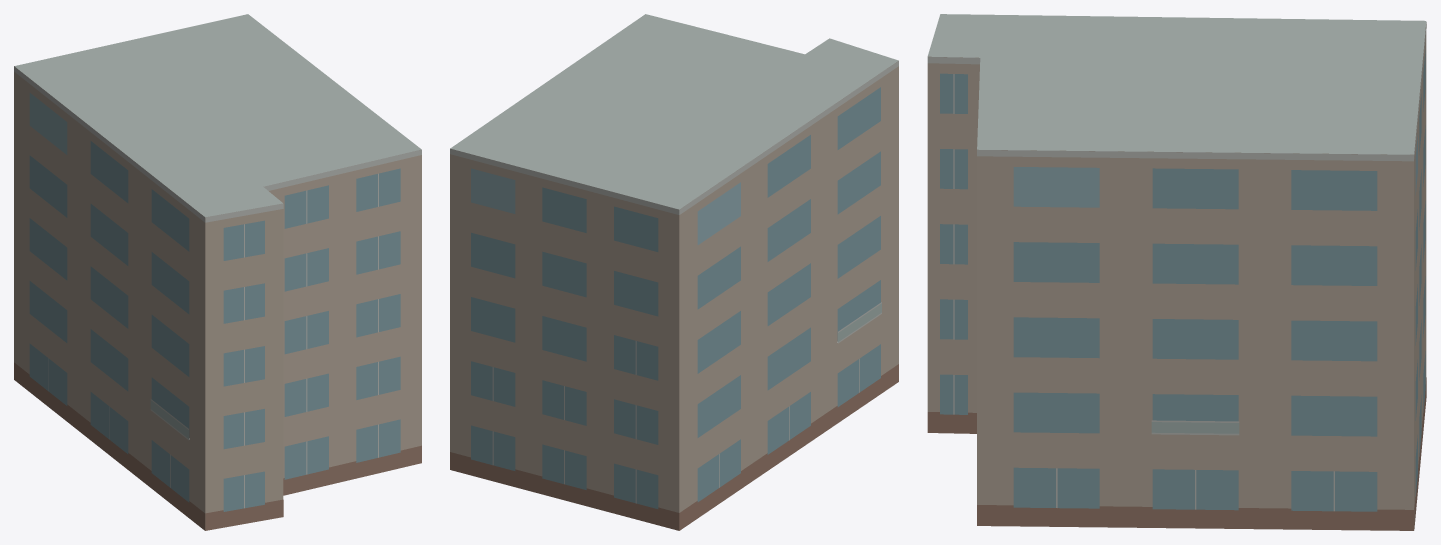
Rendered from survey-upis-32743136.glb.
The picture shows the model from 3 angles, left to right: view 1: azimuth 30°, elevation 25°; view 2: azimuth 150°, elevation 25°; view 3: azimuth 270°, elevation 25°; orthographic projection. The views are drawn at different scales.
Parts seen in each view (by area): view 1: survey-upis-32743136.tmp; view 2: survey-upis-32743136.tmp; view 3: survey-upis-32743136.tmp.
Part boxes in pixels (left/top/right/bottom): survey-upis-32743136.tmp: left=14, top=14, right=421, bottom=530; survey-upis-32743136.tmp: left=450, top=14, right=898, bottom=530; survey-upis-32743136.tmp: left=927, top=14, right=1426, bottom=530.
Size of the model in its own units: 11.29 by 14.05 by 16.9.
